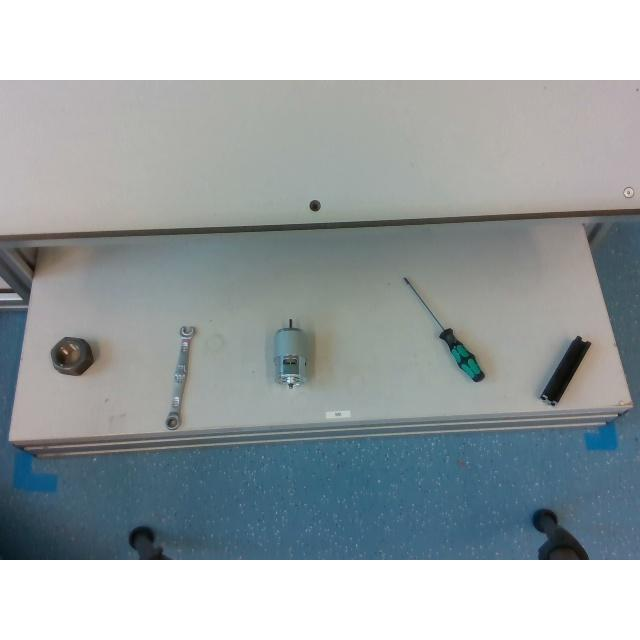F20_20_B: (540, 338, 590, 402)
M30: (50, 338, 94, 374)
Motor2: (274, 318, 310, 386)
Screwdriver: (404, 276, 484, 380)
Wrench: (166, 325, 194, 427)
